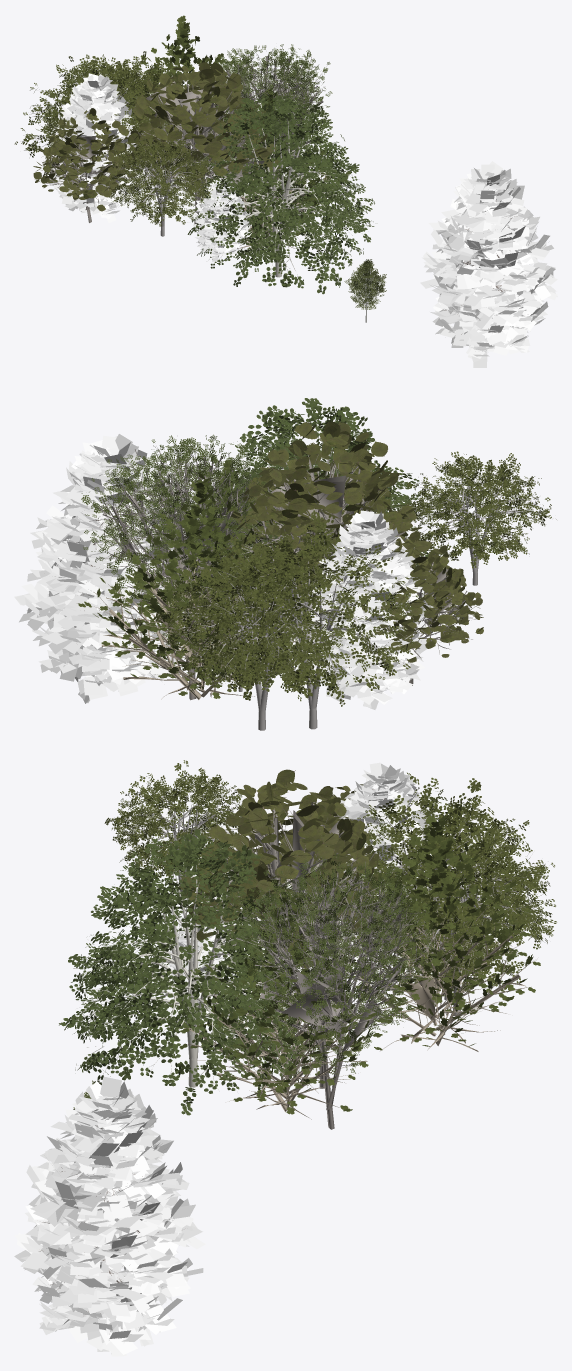
3 views of the same model, one above another, from view 1: azimuth 30°, elevation 25°; view 2: azimuth 150°, elevation 25°; view 3: azimuth 270°, elevation 25° (orthographic). The views are drawn at different scales.
Parts seen in each view (by area): view 1: TL_tree_154_UNVERIFIED, TL_tree_156_UNVERIFIED, TL_tree_158_UNVERIFIED, TL_tree_155_UNVERIFIED, TL_tree_160_UNVERIFIED, TL_tree_159_UNVERIFIED, TL_tree_153_UNVERIFIED; view 2: TL_tree_155_UNVERIFIED, TL_tree_154_UNVERIFIED, TL_tree_158_UNVERIFIED, TL_tree_160_UNVERIFIED, TL_tree_159_UNVERIFIED, TL_tree_156_UNVERIFIED; view 3: TL_tree_154_UNVERIFIED, TL_tree_156_UNVERIFIED, TL_tree_159_UNVERIFIED, TL_tree_155_UNVERIFIED, TL_tree_160_UNVERIFIED, TL_tree_158_UNVERIFIED.
Part boxes in pixels (bbox=[...]): TL_tree_154_UNVERIFIED: bbox=[45, 73, 557, 367]; TL_tree_156_UNVERIFIED: bbox=[187, 94, 374, 294]; TL_tree_158_UNVERIFIED: bbox=[33, 62, 280, 228]; TL_tree_155_UNVERIFIED: bbox=[14, 51, 214, 236]; TL_tree_160_UNVERIFIED: bbox=[205, 44, 332, 237]; TL_tree_159_UNVERIFIED: bbox=[117, 15, 351, 248]; TL_tree_153_UNVERIFIED: bbox=[344, 259, 386, 322]; TL_tree_155_UNVERIFIED: bbox=[153, 451, 556, 730]; TL_tree_154_UNVERIFIED: bbox=[14, 434, 433, 709]; TL_tree_158_UNVERIFIED: bbox=[225, 421, 483, 685]; TL_tree_160_UNVERIFIED: bbox=[81, 434, 283, 700]; TL_tree_159_UNVERIFIED: bbox=[78, 460, 312, 699]; TL_tree_156_UNVERIFIED: bbox=[195, 398, 432, 654]; TL_tree_154_UNVERIFIED: bbox=[14, 762, 442, 1356]; TL_tree_156_UNVERIFIED: bbox=[59, 829, 329, 1115]; TL_tree_159_UNVERIFIED: bbox=[175, 815, 540, 1119]; TL_tree_155_UNVERIFIED: bbox=[104, 760, 556, 1016]; TL_tree_160_UNVERIFIED: bbox=[224, 853, 443, 1129]; TL_tree_158_UNVERIFIED: bbox=[179, 769, 407, 1006].
Bounding box in the file's own units: 64.99 × 43.58 × 51.57.
Materials: 14 (6 with a texture image).
